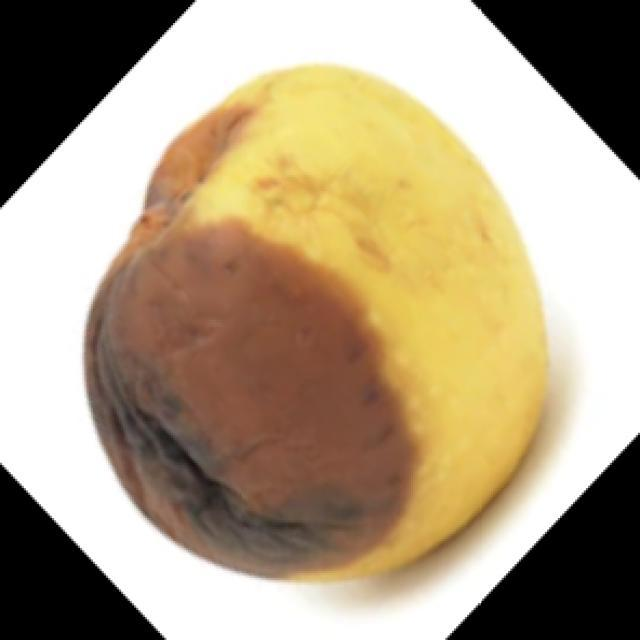Rotten: (99, 76, 538, 556)
